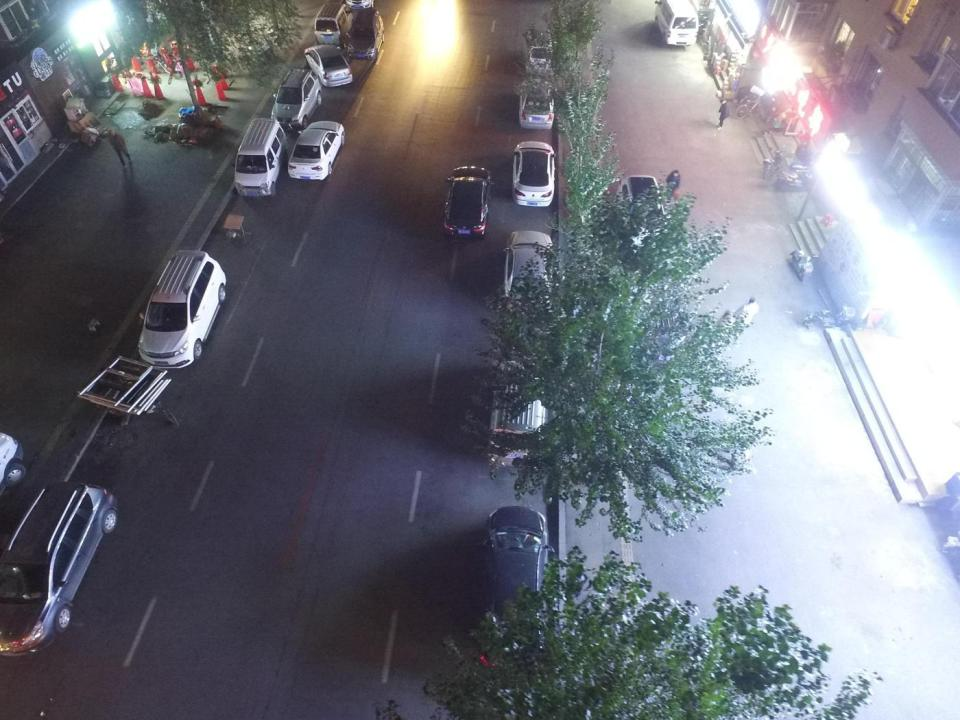car: (0, 480, 118, 658), (479, 504, 550, 684), (137, 249, 226, 370), (625, 279, 690, 369), (504, 229, 555, 322), (613, 174, 667, 250), (287, 119, 345, 181), (443, 165, 491, 238), (270, 67, 322, 130), (512, 140, 556, 207), (303, 42, 353, 88), (518, 76, 554, 130), (0, 432, 26, 502), (345, 0, 374, 9)
van: (486, 356, 546, 465), (233, 117, 287, 198), (346, 8, 386, 62), (654, 0, 700, 46), (313, 1, 354, 46), (524, 27, 554, 73)
